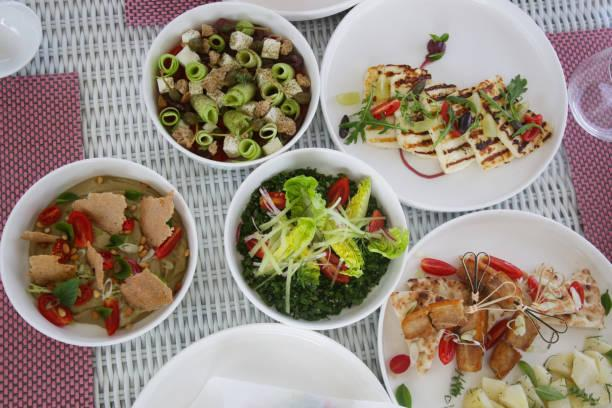Braised Crucian Carp: (324, 0, 565, 218), (376, 209, 611, 407), (0, 157, 195, 348), (222, 147, 404, 328), (141, 2, 317, 172)
